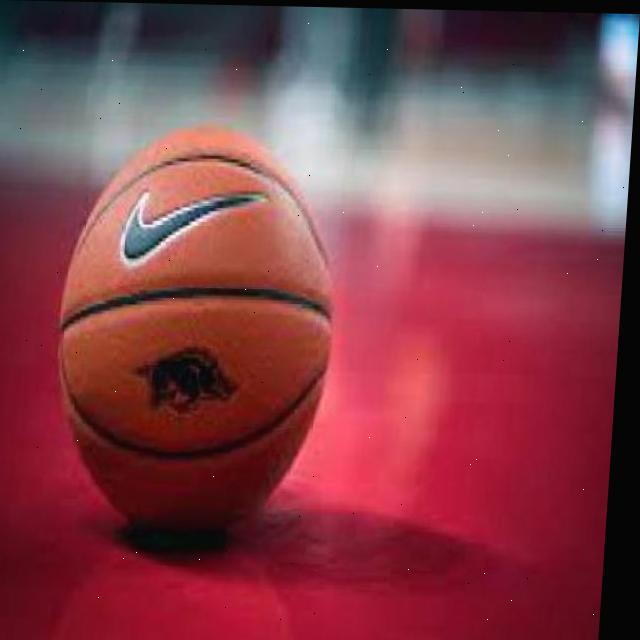Basketball: (51, 123, 351, 528)
